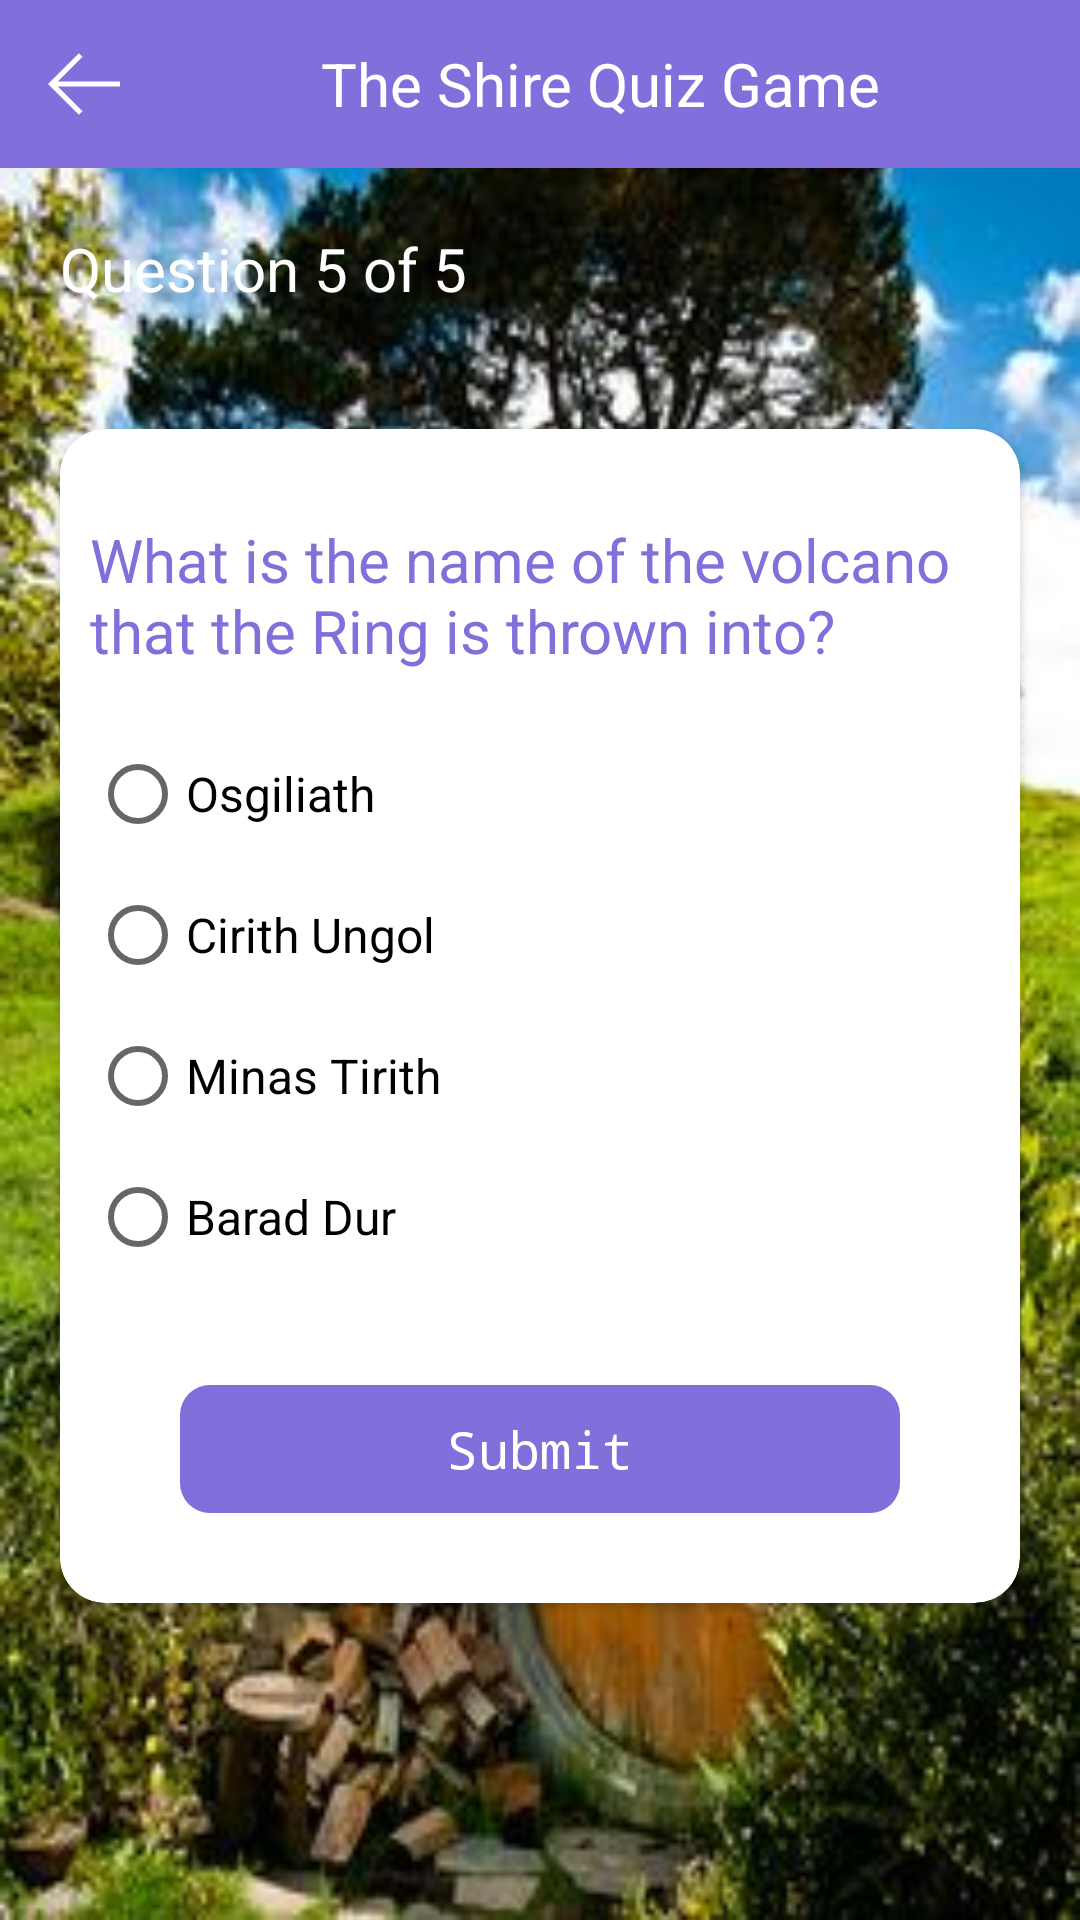

Screen size 1080 x 1920. Icon name, then its center in pixels as (x=x, y=y):
left arrow: (x=84, y=84)
